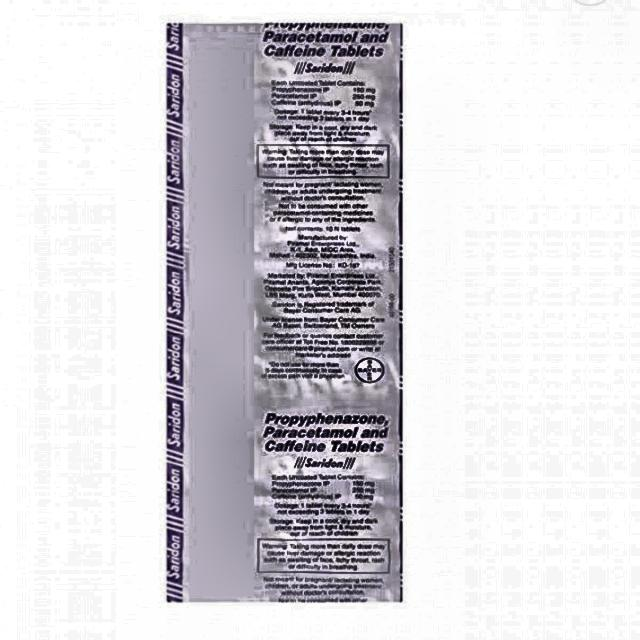Saridon: (166, 28, 404, 597)
